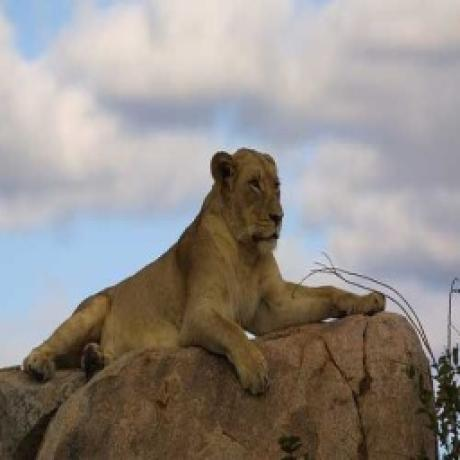Lion: (18, 145, 387, 400)
